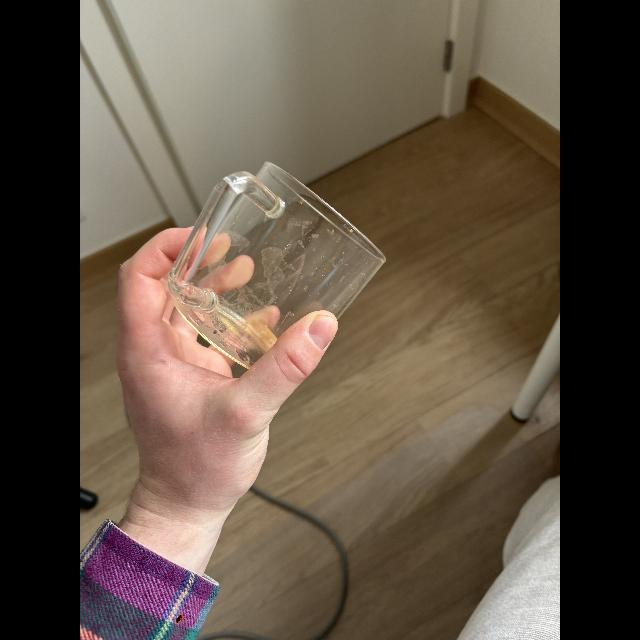Glass: (160, 150, 386, 370)
